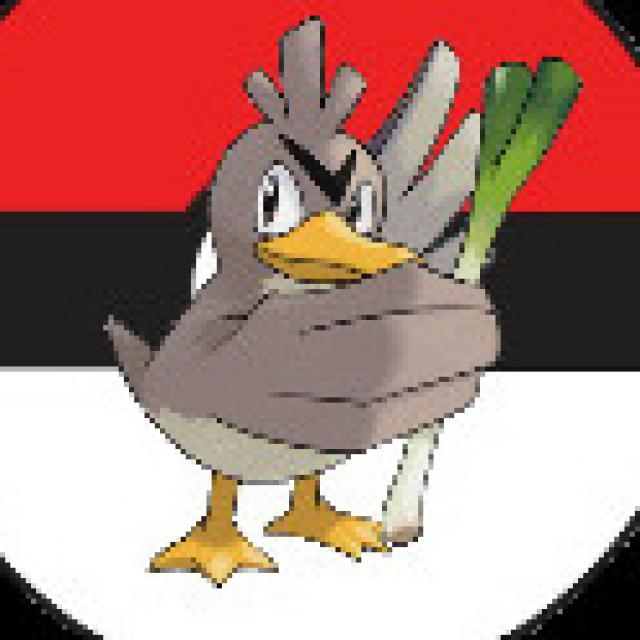Farfetchd: (151, 27, 527, 584)
